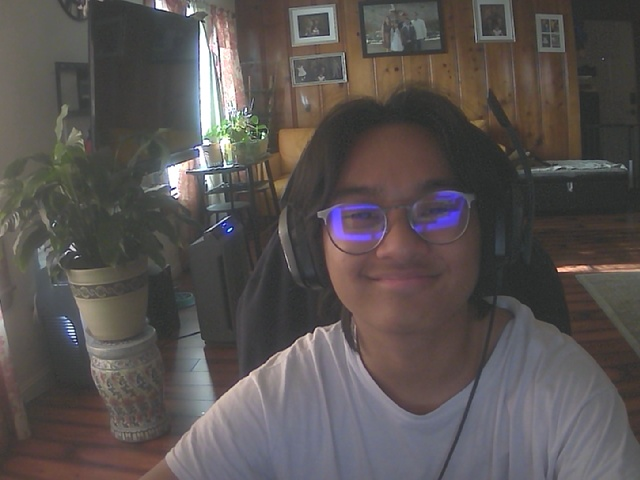happy: (312, 119, 484, 333)
